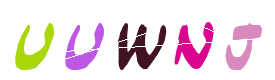J: (153, 0, 233, 80)
N: (123, 0, 203, 80)
U: (0, 0, 80, 80), (96, 0, 176, 80)
W: (98, 0, 178, 80)
